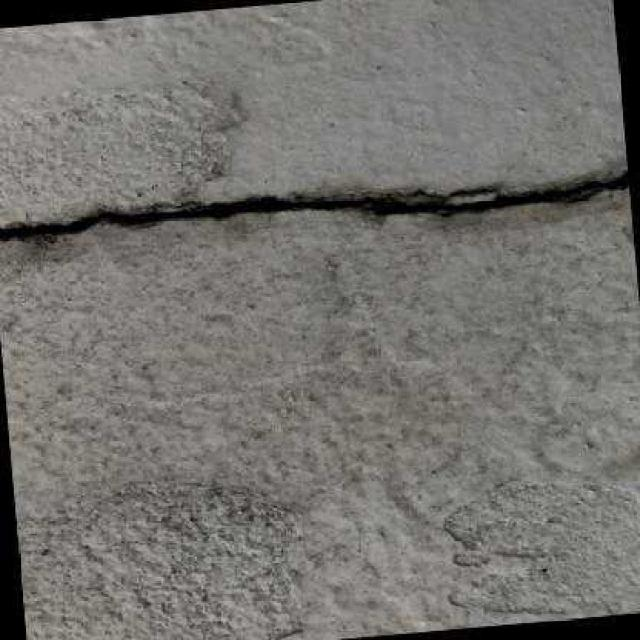D00: (0, 174, 629, 238)
